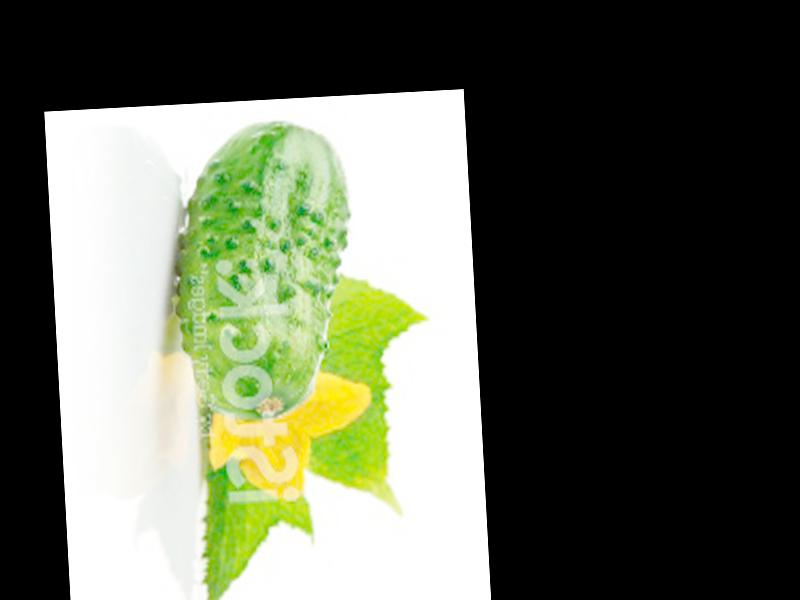Cucumber: (168, 117, 360, 420)
